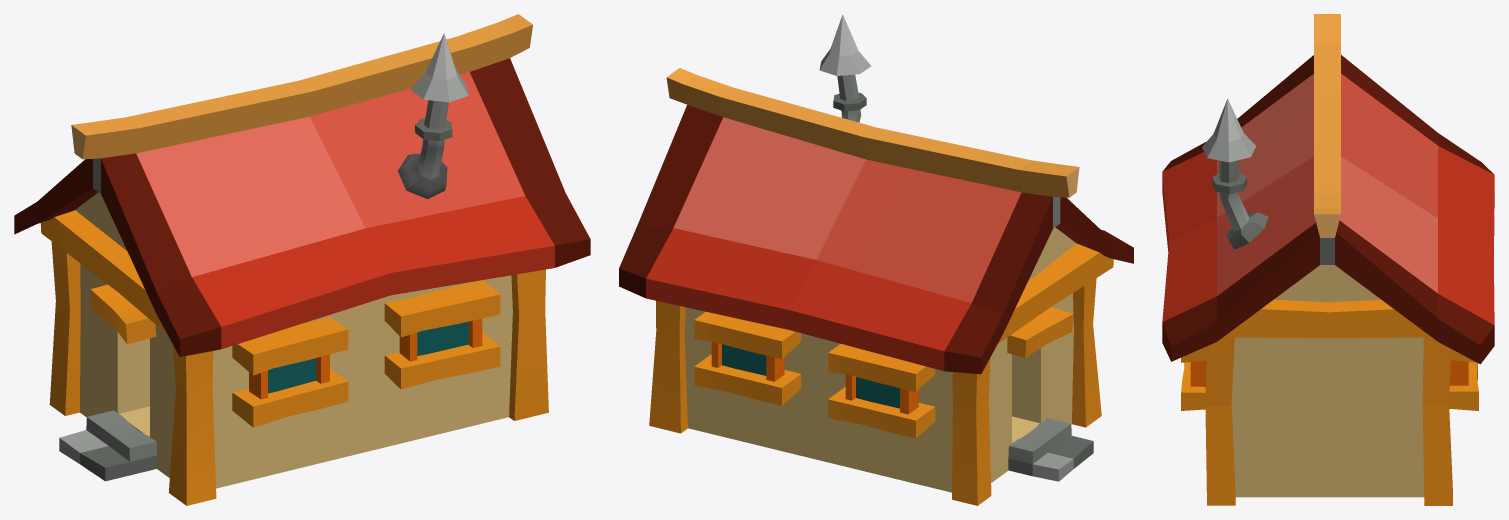
Rendered from logcabin 1.fbx.
3 views of the same model, side by side, from view 1: azimuth 30°, elevation 25°; view 2: azimuth 150°, elevation 25°; view 3: azimuth 270°, elevation 25° (orthographic). The views are drawn at different scales.
Parts seen in each view (by area): view 1: log_cabin1; view 2: log_cabin1; view 3: log_cabin1.
Part boxes in pixels (x1,y1,x2,y2): log_cabin1: [14, 14, 590, 505]; log_cabin1: [619, 14, 1133, 505]; log_cabin1: [1162, 14, 1494, 505].
Bounding box in the file's own units: 27.97 × 23.48 × 19.38.
